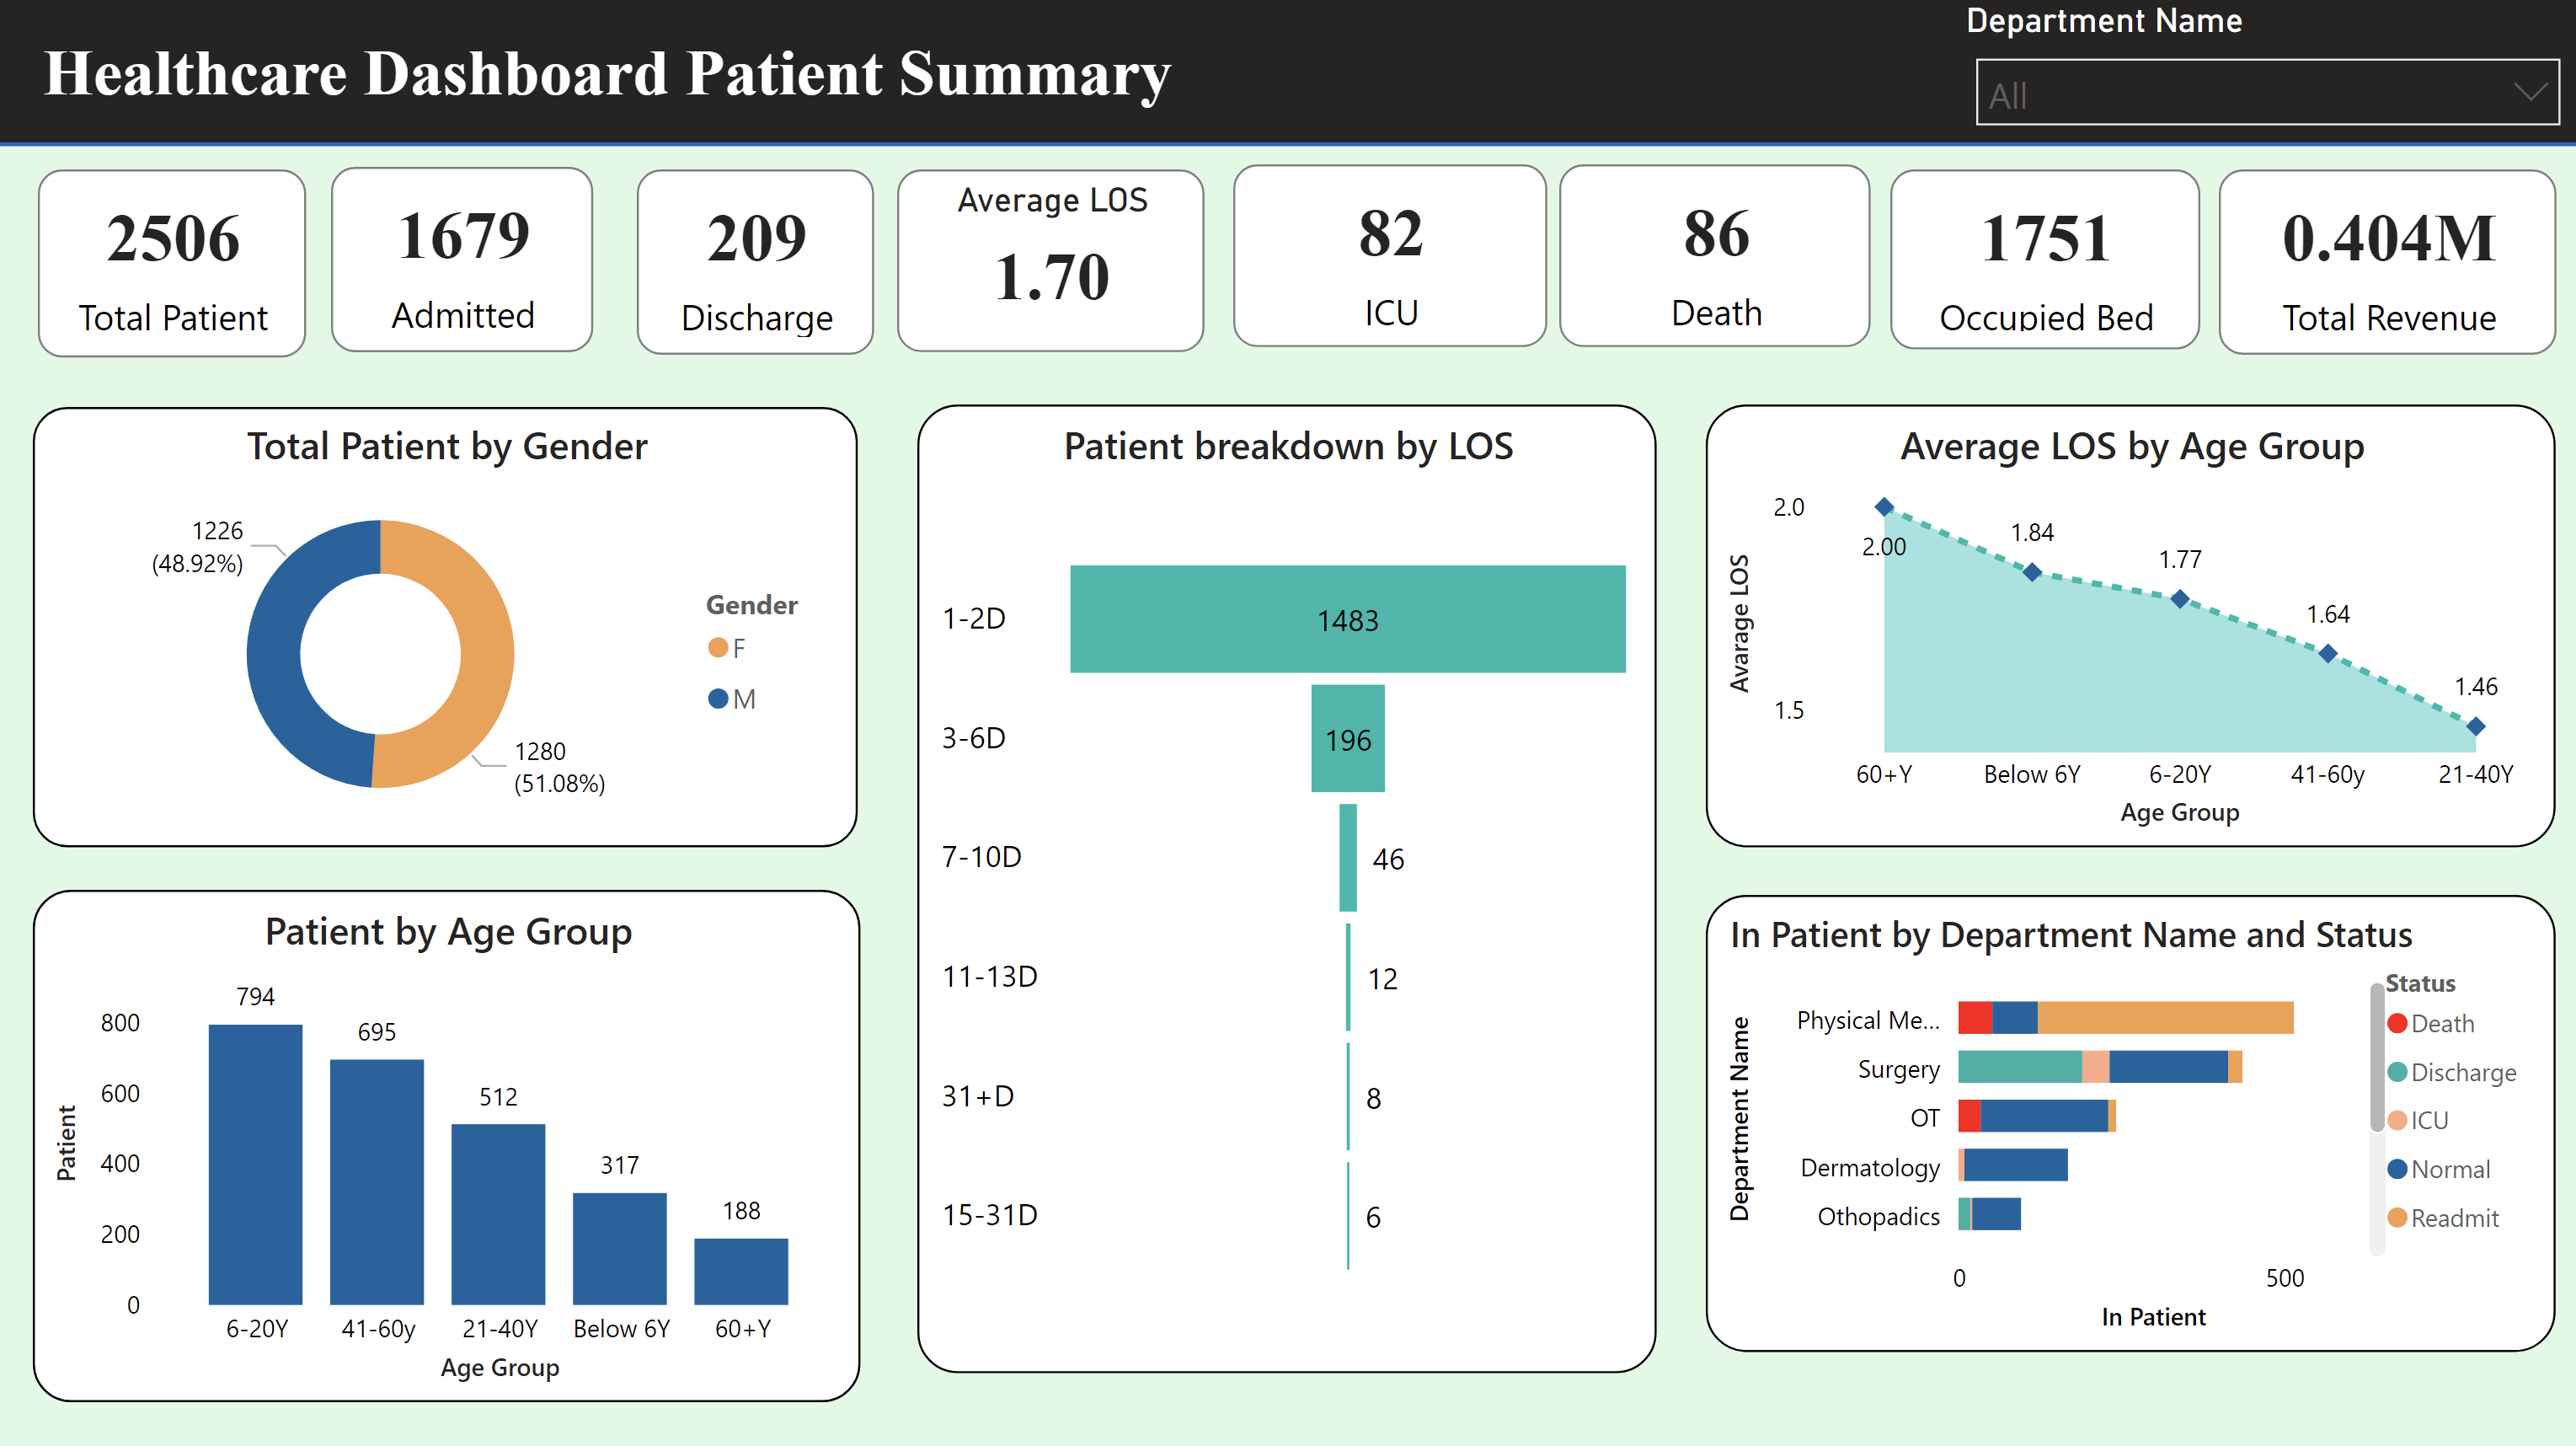

The dashboard page shown, as its layout file describes it:
{"tool":"powerbi","page":{"name":"Patients Summary ","canvas":[1280,720],"ordinal":1},"visuals":[{"type":"shape","box":[0,73.9,1280,646.2],"z":0},{"type":"shape","box":[0,0,1280,73.9],"z":1000},{"type":"cardVisual","fields":{"Data":["Measure.Total Patient"]},"box":[21.9,86.2,132.8,93.1],"z":2000},{"type":"textbox","box":[20.5,15.1,620.1,49.3],"z":3000},{"type":"slicer","title":"Department Name","fields":{"Values":["Department.Department_Name"]},"box":[971,2.4,309,71],"z":4000},{"type":"cardVisual","fields":{"Data":["Measure.In Patient"]},"box":[167.5,85.6,129.6,91.7],"z":6000},{"type":"cardVisual","fields":{"Data":["Measure.Total Discharge"]},"box":[319,86.8,117.4,91.7],"z":7000},{"type":"cardVisual","title":"Average LOS","fields":{"Data":["Measure.Avarage LOS"]},"box":[447.7,86.2,152,90.4],"z":8000},{"type":"cardVisual","fields":{"Data":["Measure.ICU"]},"box":[613.7,84.3,155.2,90.5],"z":9000},{"type":"cardVisual","fields":{"Data":["Measure.Death"]},"box":[775,84.3,154,90.5],"z":10000},{"type":"cardVisual","fields":{"Data":["Measure.Occupied Bed"]},"box":[939.1,86.2,153.3,89],"z":11000},{"type":"cardVisual","fields":{"Data":["Measure.Total Revenue"]},"box":[1100.7,86.2,167,91.7],"z":12000},{"type":"donutChart","fields":{"Category":["Detail data dataset.Gender"],"Y":["Measure.Total Patient"]},"box":[20.5,204,408,217.7],"z":13000},{"type":"columnChart","fields":{"Y":["Measure.Total Patient"],"Category":["Detail data dataset.Age Bucket"]},"box":[20.5,442.2,409.3,253.3],"z":14000},{"type":"areaChart","title":"Average LOS by Age Group","fields":{"Y":["Measure.Avarage LOS"],"Category":["Detail data dataset.Age Bucket"]},"box":[847.4,203.1,420.3,219],"z":15000},{"type":"barChart","fields":{"Category":["Department.Department_Name"],"Y":["Measure.In Patient"],"Series":["Detail data dataset.Status"]},"box":[847.4,445.4,420.3,225.9],"z":16000},{"type":"funnel","title":"Patient breakdown by LOS","fields":{"Y":["Measure.Total Patient"],"Category":["Detail data dataset.Custom"]},"box":[457.2,202.6,365.5,479.1],"z":17000}]}

Visuals, with their boxes in screenshot pixels (x1, y1, x2, y2), scaled from the page's 1280x720 canvas onto the 2576x1446 screenshot:
shape: crop(0, 148, 2575, 1445)
shape: crop(0, 0, 2575, 148)
cardVisual - Measure.Total Patient: crop(44, 173, 312, 360)
textbox: crop(41, 30, 1289, 129)
"Department Name" slicer: crop(1954, 5, 2575, 147)
cardVisual - Measure.In Patient: crop(337, 172, 598, 356)
cardVisual - Measure.Total Discharge: crop(642, 174, 879, 358)
"Average LOS" cardVisual: crop(901, 173, 1207, 355)
cardVisual - Measure.ICU: crop(1235, 169, 1547, 351)
cardVisual - Measure.Death: crop(1560, 169, 1869, 351)
cardVisual - Measure.Occupied Bed: crop(1890, 173, 2199, 352)
cardVisual - Measure.Total Revenue: crop(2215, 173, 2552, 357)
donutChart - Detail data dataset.Gender x Measure.Total Patient: crop(41, 410, 863, 847)
columnChart - Measure.Total Patient x Detail data dataset.Age Bucket: crop(41, 888, 865, 1397)
"Average LOS by Age Group" areaChart: crop(1705, 408, 2552, 848)
barChart - Department.Department_Name x Measure.In Patient: crop(1705, 895, 2552, 1348)
"Patient breakdown by LOS" funnel: crop(920, 407, 1655, 1369)
